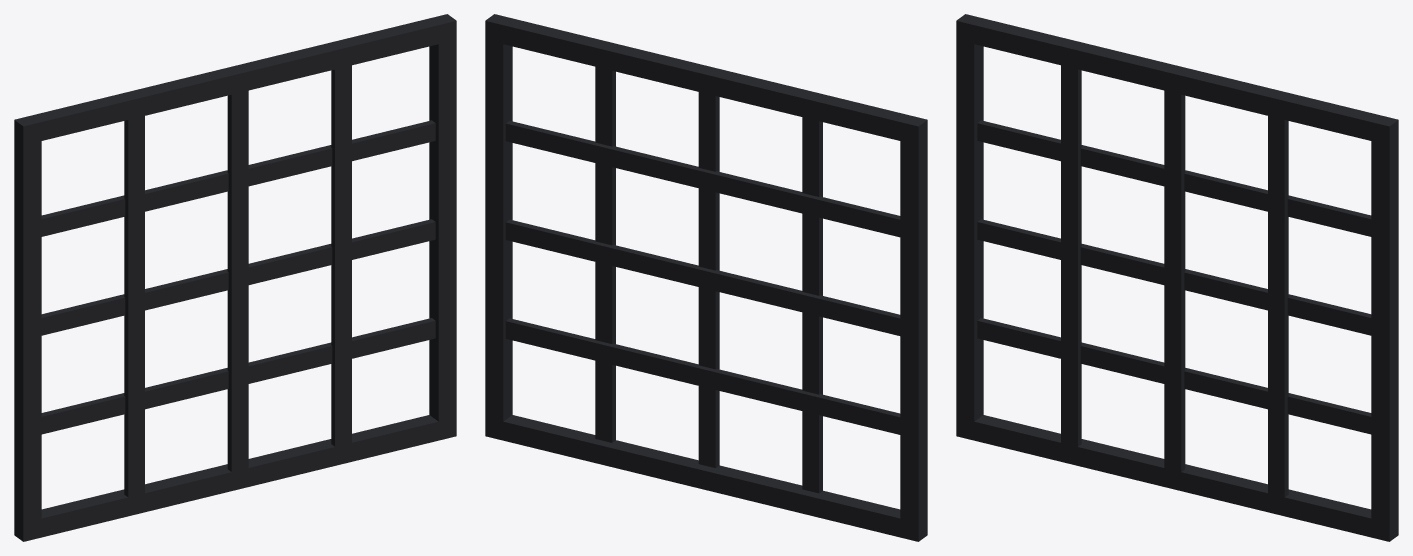
The model's file is SM_Wall_WindowGrille_01.fbx.
3 views of the same model, side by side, from view 1: azimuth 30°, elevation 25°; view 2: azimuth 150°, elevation 25°; view 3: azimuth 330°, elevation 25° (orthographic).
Parts seen in each view (by area): view 1: SM_Wall_WindowGrille_01; view 2: SM_Wall_WindowGrille_01; view 3: SM_Wall_WindowGrille_01.
Part boxes in pixels (x1,y1,x2,y2): SM_Wall_WindowGrille_01: (14, 14, 456, 541); SM_Wall_WindowGrille_01: (485, 14, 927, 541); SM_Wall_WindowGrille_01: (956, 14, 1398, 541).
Bounding box in the file's own units: 1.03 × 0.94 × 0.038.
1 material, 1 textured.
